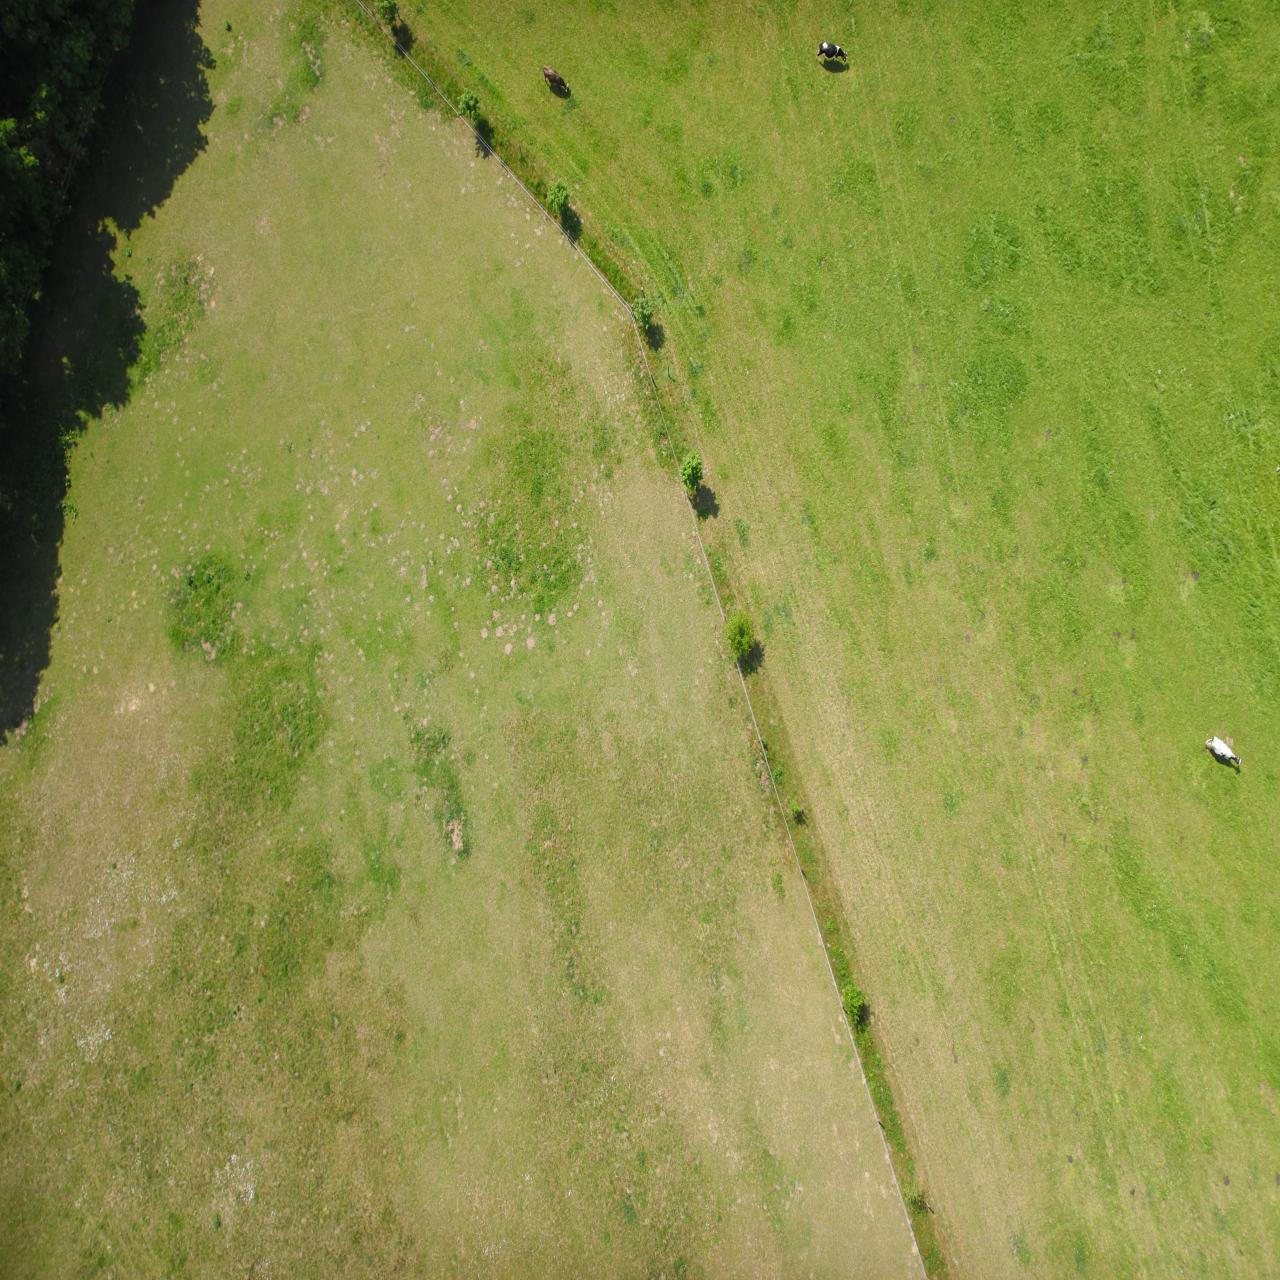cow: (39, 515, 75, 544), (710, 1187, 737, 1216), (433, 1217, 463, 1239)
